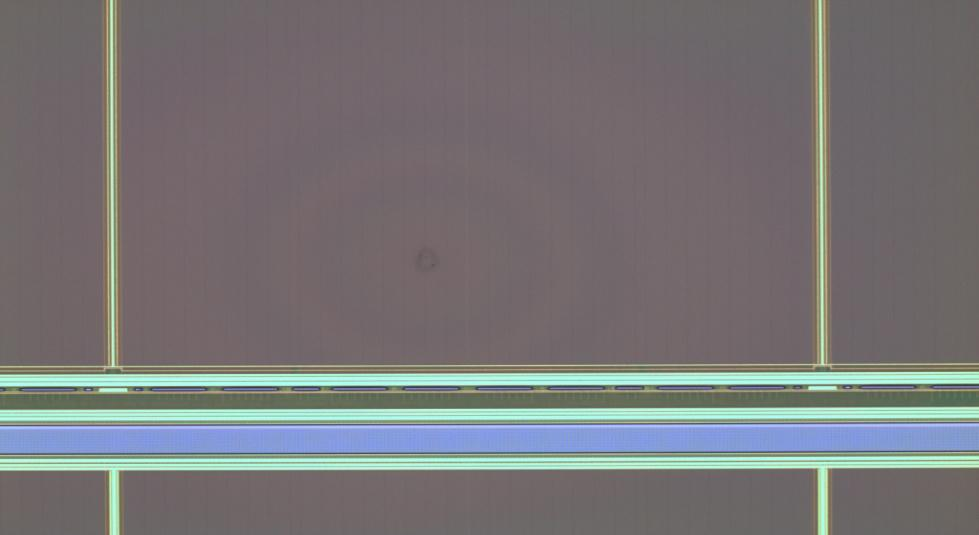PIQ PARTICLE: (412, 248, 440, 276)
